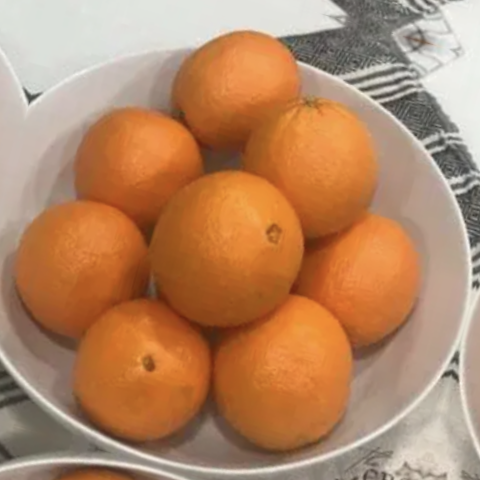orange: (129, 148, 328, 346), (258, 175, 466, 359), (186, 268, 374, 468), (50, 265, 232, 460), (0, 174, 170, 353), (156, 6, 323, 163)
